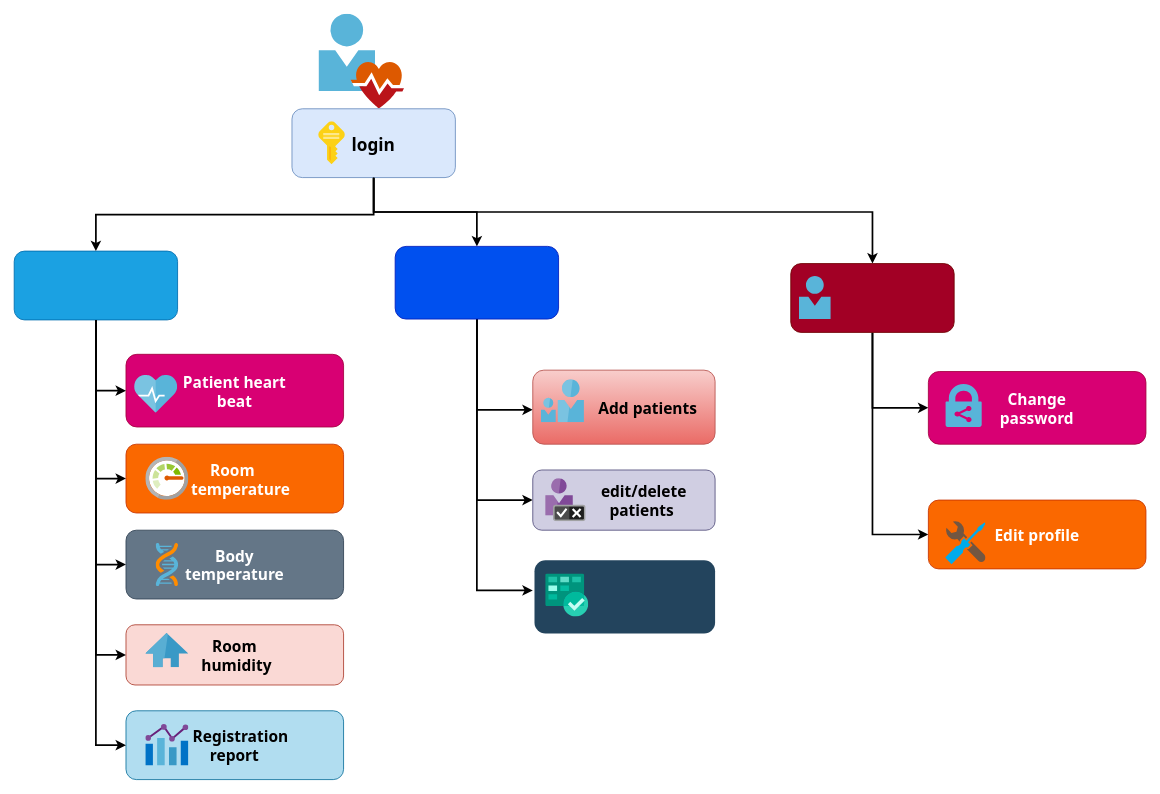
Some shapes in this 1160 by 794 pixel diagram are drawn without their labels. The box of each missing label's shape, as (x1, y1, x2, y2) in pixels:
Assign device to patient: (534, 560, 715, 633)
Dashboard: (13, 250, 178, 320)
Manage patients: (394, 246, 559, 319)
Profile: (790, 263, 954, 332)
